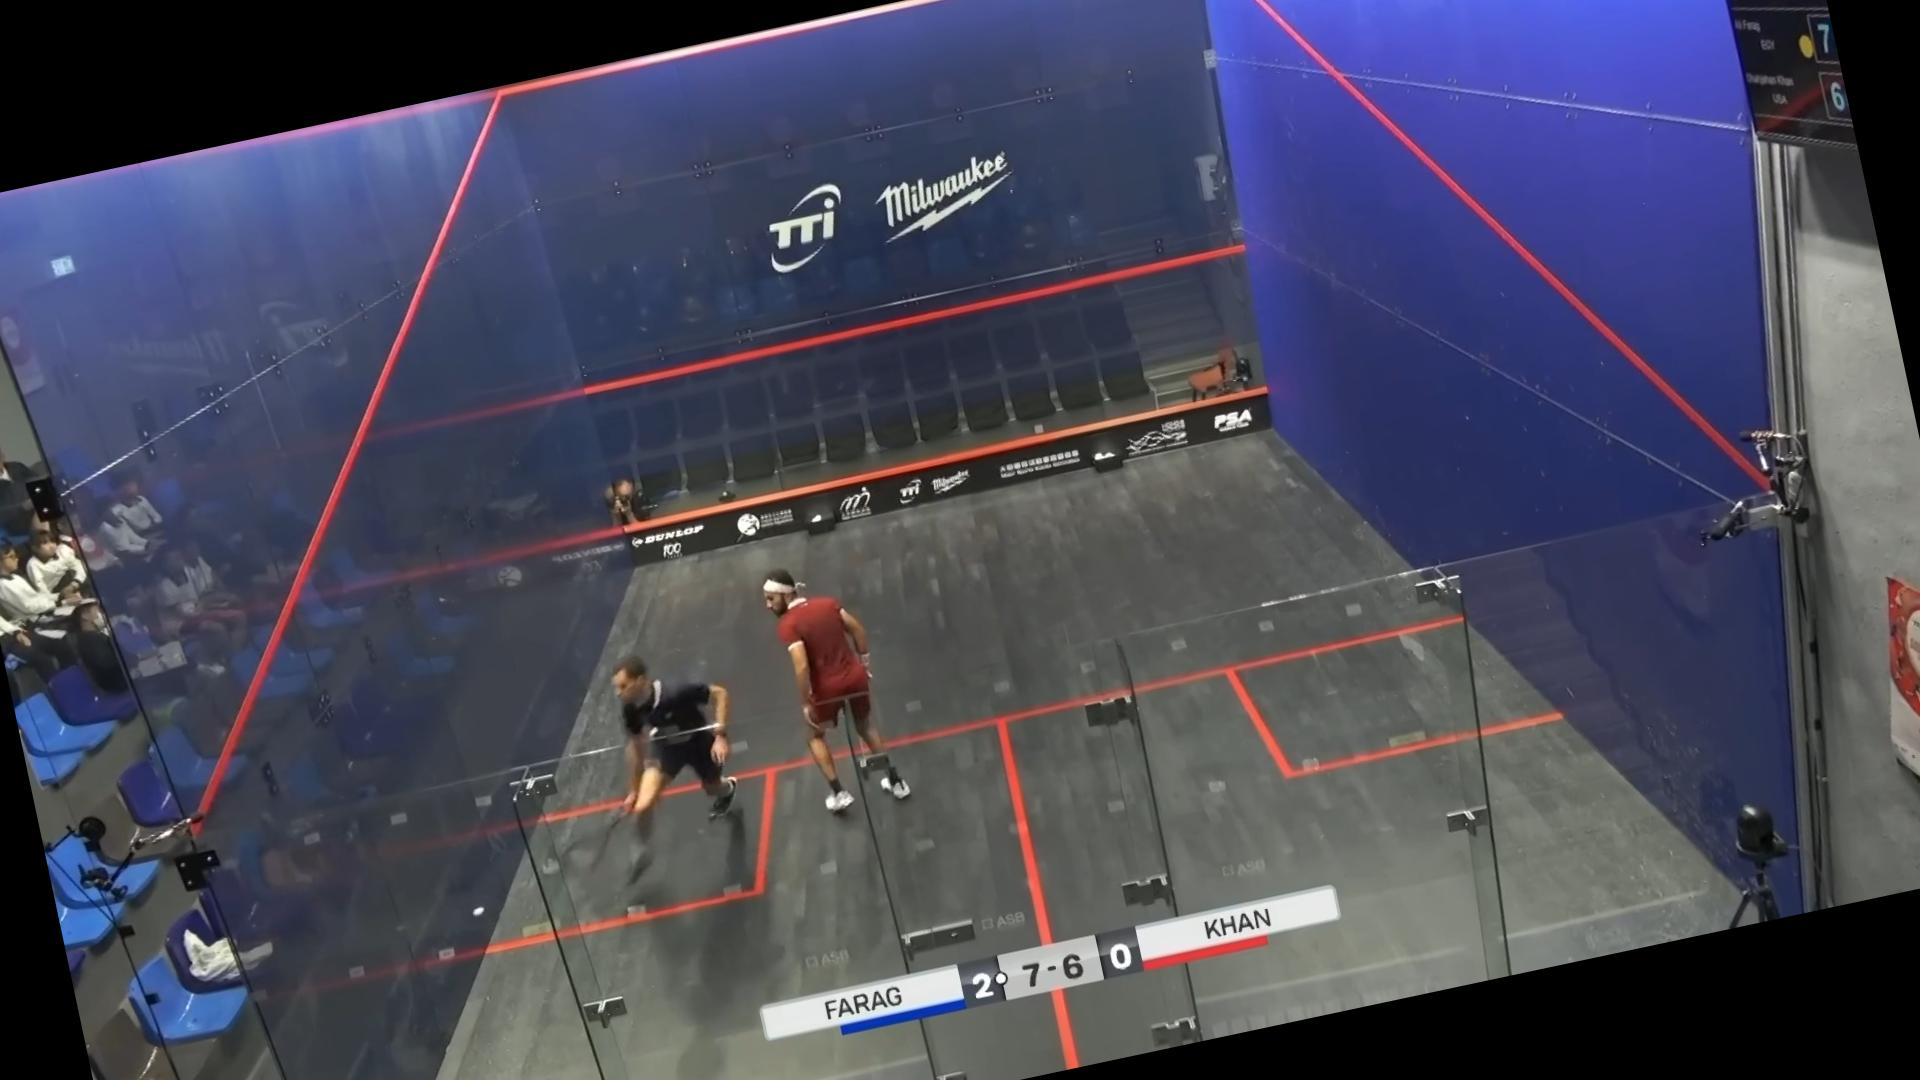Racket: (550, 814, 641, 882)
